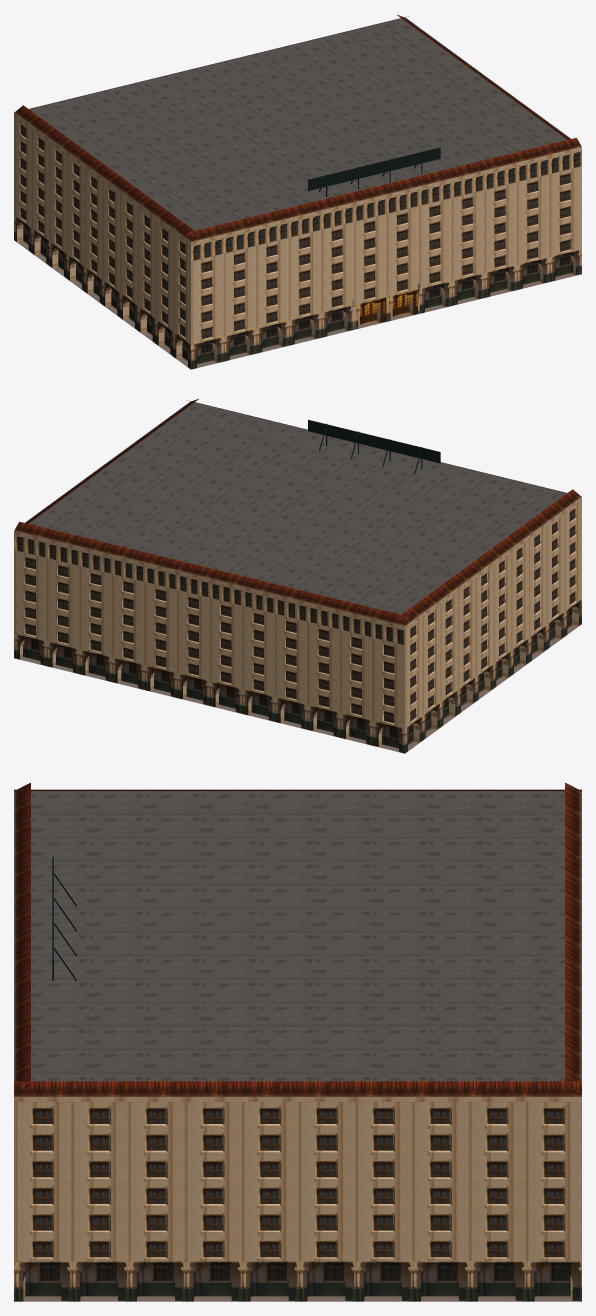
The model's file is LM_Roosevelt.fbx.
3 renders of one model, top to bottom at view 1: azimuth 30°, elevation 25°; view 2: azimuth 150°, elevation 25°; view 3: azimuth 270°, elevation 25°, orthographic. The views are drawn at different scales.
Visible parts, largest first — view 1: LM_Roosevelt; view 2: LM_Roosevelt; view 3: LM_Roosevelt.
Boxes of the visible parts, x1=… form: LM_Roosevelt: x1=14, y1=14, x2=581, y2=369; LM_Roosevelt: x1=14, y1=398, x2=581, y2=753; LM_Roosevelt: x1=14, y1=782, x2=581, y2=1301.
Bounding box in the file's own units: 74 × 58 × 27.1.
1 material, 1 textured.
